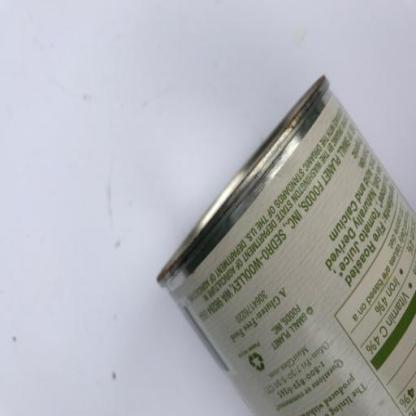trash: (157, 74, 416, 416)
